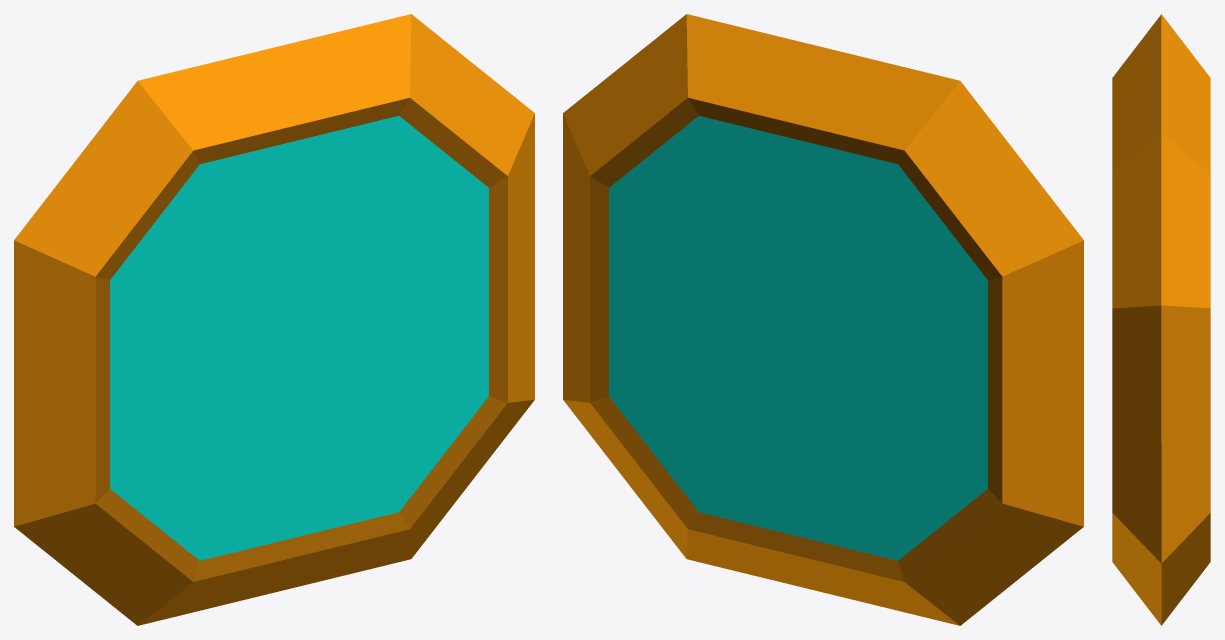
Rendered from Gem_06.glb.
3 views of the same model, side by side, from view 1: azimuth 30°, elevation 25°; view 2: azimuth 150°, elevation 25°; view 3: azimuth 270°, elevation 25° (orthographic). The views are drawn at different scales.
Visible parts, largest first — view 1: Gem_06; view 2: Gem_06; view 3: Gem_06.
Boxes of the visible parts, left/top/right/bottom form: Gem_06: left=14, top=14, right=534, bottom=625; Gem_06: left=563, top=14, right=1083, bottom=625; Gem_06: left=1112, top=14, right=1210, bottom=625.
Size of what is drawn, in the model's own units: 0.3138 by 0.3138 by 0.0567.
Materials: 1 (1 with a texture image).
